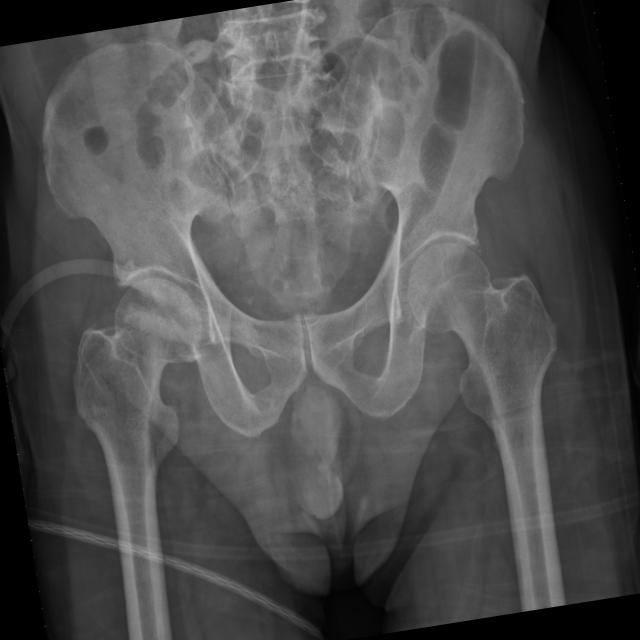normal-left: (408, 242, 557, 531)
normal-right: (74, 278, 202, 569)
